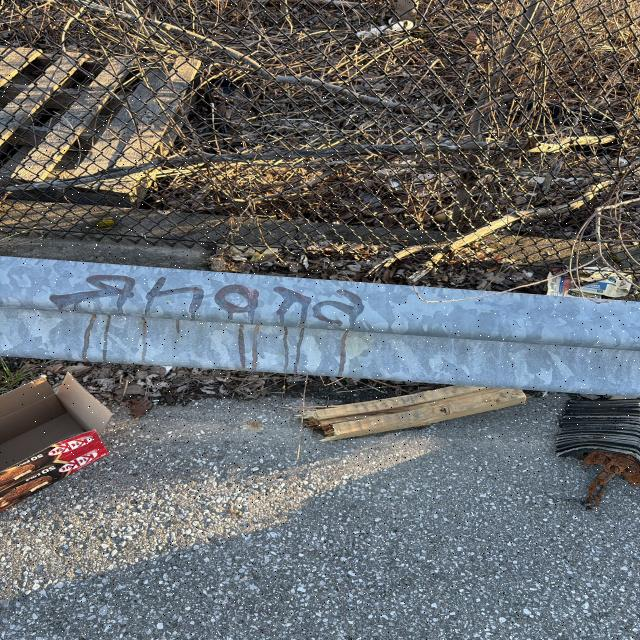Guard rail: (15, 264, 631, 386)
